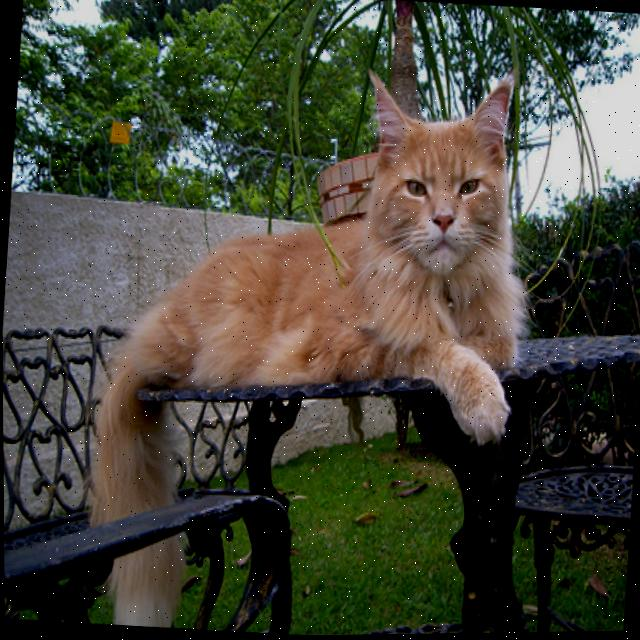Maine Coon: (80, 45, 544, 639)
